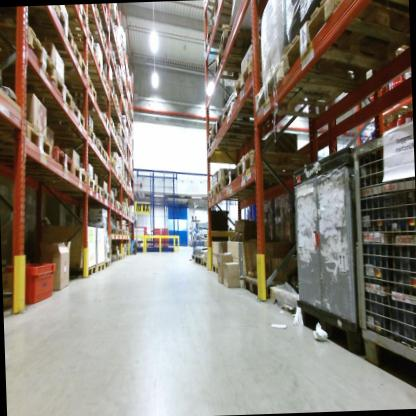pallet: (280, 0, 410, 88), (258, 53, 401, 128), (234, 54, 323, 111), (0, 20, 68, 85), (234, 142, 316, 179), (210, 24, 264, 79), (0, 115, 55, 166), (15, 6, 74, 50), (11, 68, 73, 109), (221, 86, 282, 127), (15, 144, 77, 182), (205, 182, 274, 214), (204, 130, 279, 157), (43, 38, 90, 79), (202, 14, 253, 51), (38, 100, 87, 131), (267, 281, 308, 315), (211, 114, 272, 136), (59, 71, 99, 103), (242, 271, 283, 302), (60, 27, 99, 56), (59, 123, 100, 150), (208, 1, 245, 30), (76, 50, 106, 80), (79, 145, 111, 172), (77, 76, 113, 99), (68, 262, 99, 286), (87, 107, 111, 135), (70, 157, 89, 189), (65, 7, 90, 29), (82, 8, 103, 30), (223, 165, 240, 188), (94, 47, 113, 63), (95, 27, 109, 46), (98, 137, 109, 160), (87, 175, 98, 195), (216, 170, 224, 197), (211, 260, 222, 276), (193, 255, 206, 268), (101, 187, 111, 203), (203, 257, 212, 274), (95, 261, 106, 273), (101, 259, 112, 271), (107, 116, 115, 132), (97, 182, 104, 198), (107, 197, 116, 207), (108, 225, 116, 236), (119, 201, 124, 214), (111, 254, 118, 263), (117, 253, 123, 262), (116, 201, 121, 211), (114, 228, 120, 236)
pallet_truck: (129, 220, 138, 255), (135, 219, 140, 254)
small_load_carrier: (7, 261, 60, 313)
stillage: (353, 112, 416, 377)
